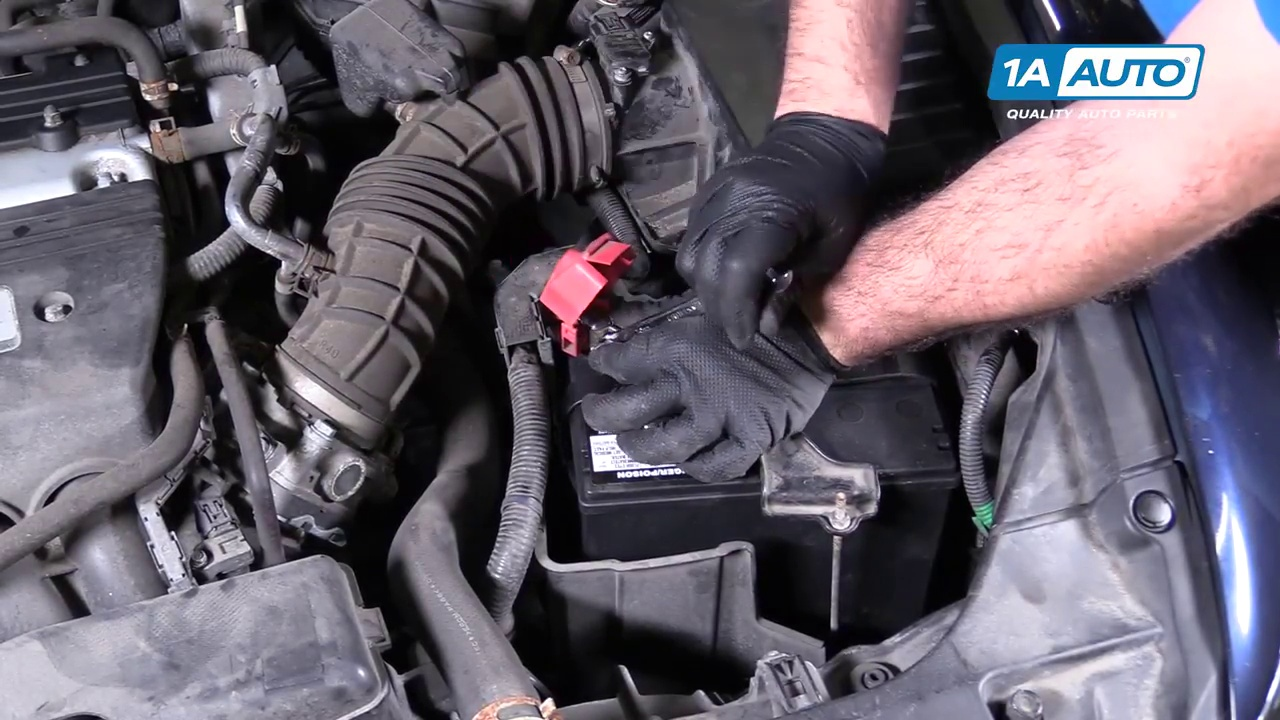battery: (550, 319, 956, 494)
pos_touched: (513, 228, 699, 393)
